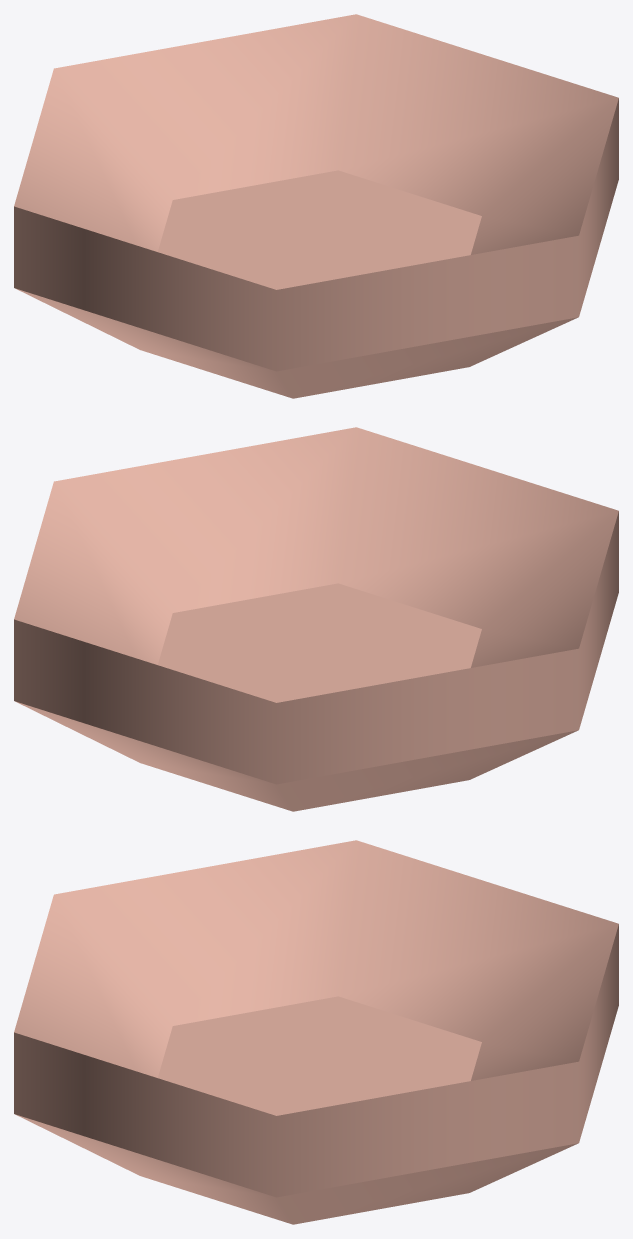
File: n4_plate_002_lev4.001.glb
3 views of the same model, one above another, from view 1: azimuth 30°, elevation 25°; view 2: azimuth 150°, elevation 25°; view 3: azimuth 270°, elevation 25° (orthographic).
Parts seen in each view (by area): view 1: n4_plate_002_lev4.001; view 2: n4_plate_002_lev4.001; view 3: n4_plate_002_lev4.001.
Part boxes in pixels (box(x1,y1,x2,y2)): n4_plate_002_lev4.001: box(14, 14, 618, 398); n4_plate_002_lev4.001: box(14, 427, 618, 811); n4_plate_002_lev4.001: box(14, 840, 618, 1224).
Bounding box in the file's own units: 0.489 × 0.1375 × 0.4535.
1 material, 1 textured.
